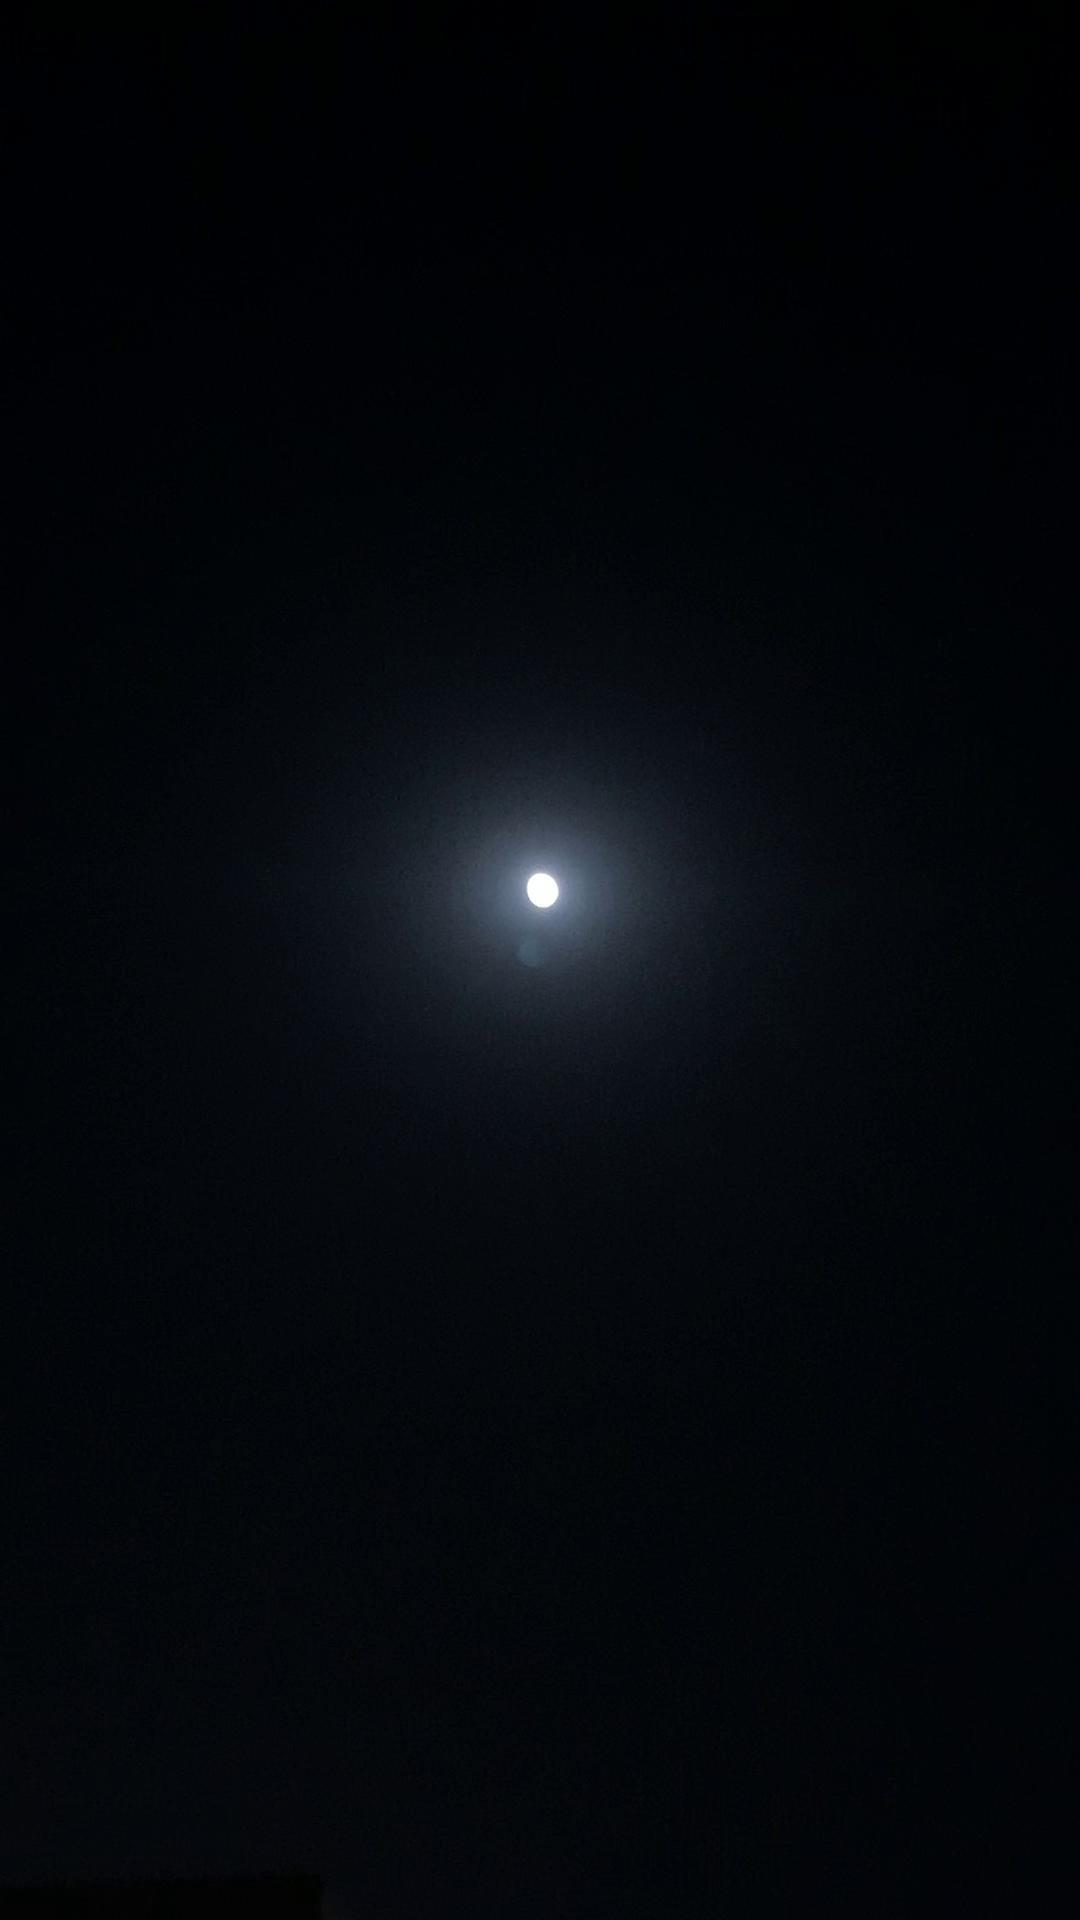moon: (504, 849, 591, 945)
